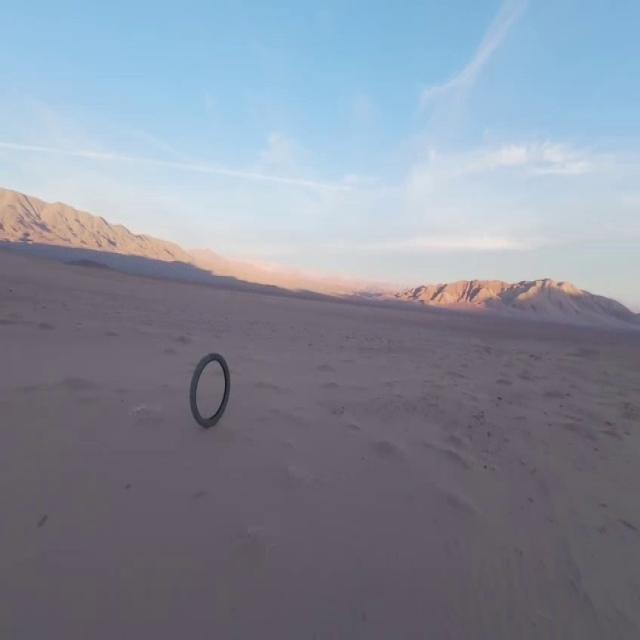Tire: (189, 353, 229, 427)
